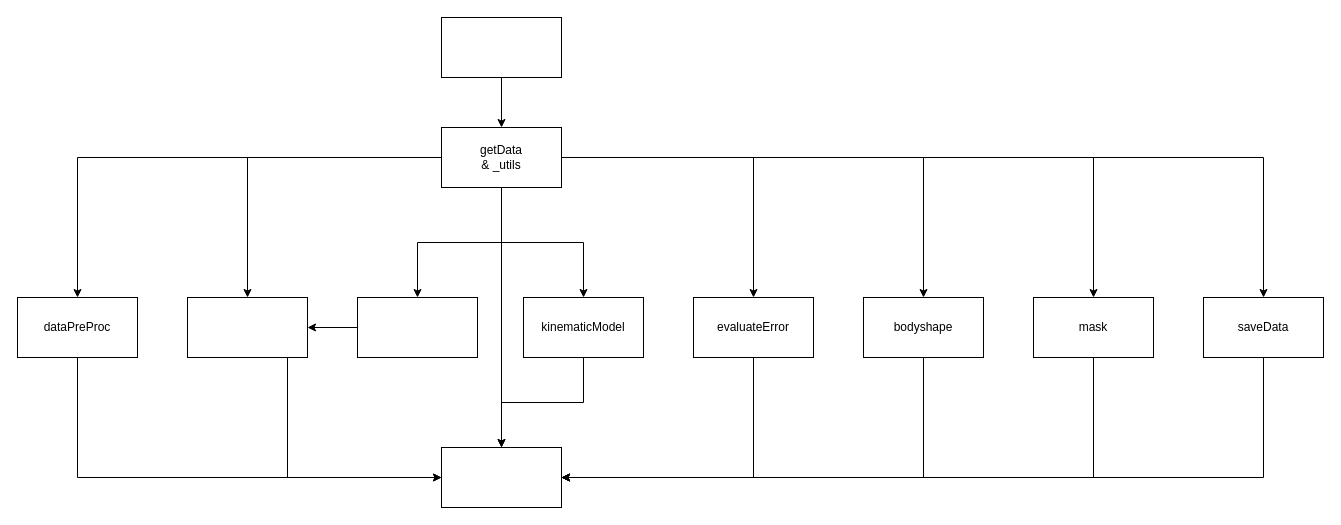
Some shapes in this 1341 by 525 pixel diagram are drawn without their labels. Each missing label, with the box of its shape:
dataAttrs: (440, 16, 562, 78)
identifyMeanline: (186, 296, 308, 358)
main: (440, 446, 562, 508)
plotIntermediates: (356, 296, 478, 358)
